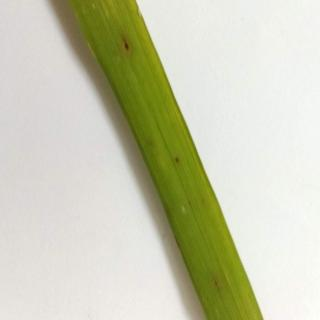bercak-Cokelat: (115, 35, 138, 58), (206, 271, 221, 292), (169, 152, 183, 170)
